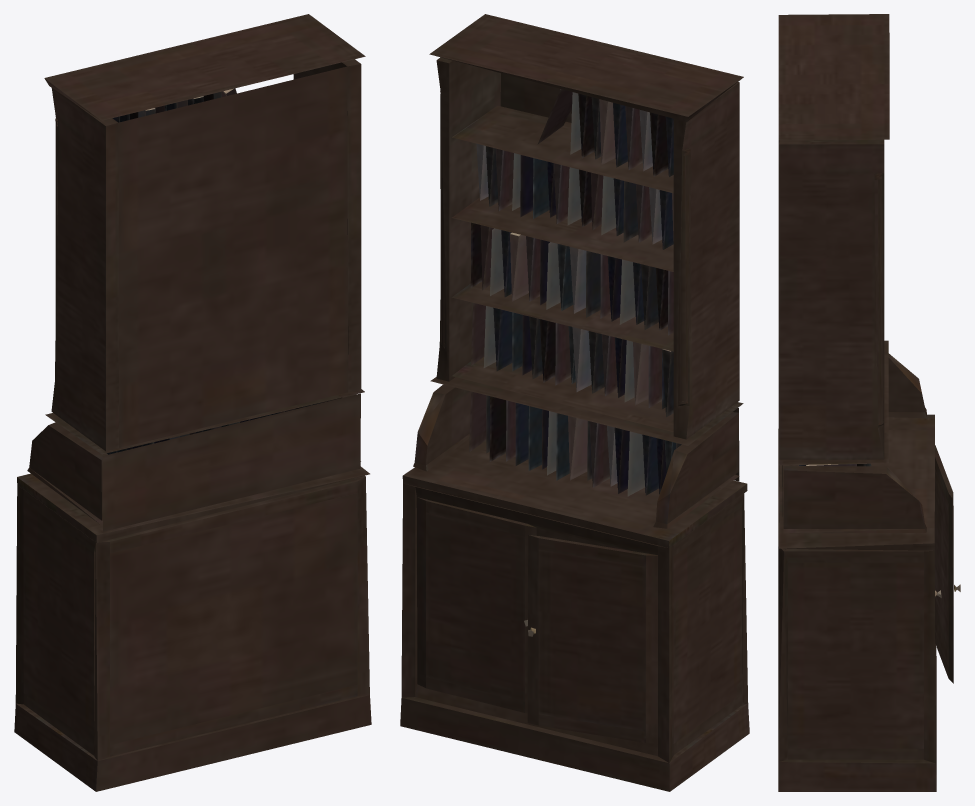
File: bookcase-glazed.lod1.glb
3 renders of one model, left to right at view 1: azimuth 30°, elevation 25°; view 2: azimuth 150°, elevation 25°; view 3: azimuth 270°, elevation 25°, orthographic. The views are drawn at different scales.
Visible parts, largest first — view 1: bookcase-glazed; view 2: bookcase-glazed; view 3: bookcase-glazed.
Part boxes in pixels (x1,y1,x2,y2): bookcase-glazed: [14, 14, 371, 791]; bookcase-glazed: [400, 14, 749, 791]; bookcase-glazed: [778, 14, 960, 791].
Bounding box in the file's own units: 0.993 × 2.31 × 0.5874.
1 material, 1 textured.
